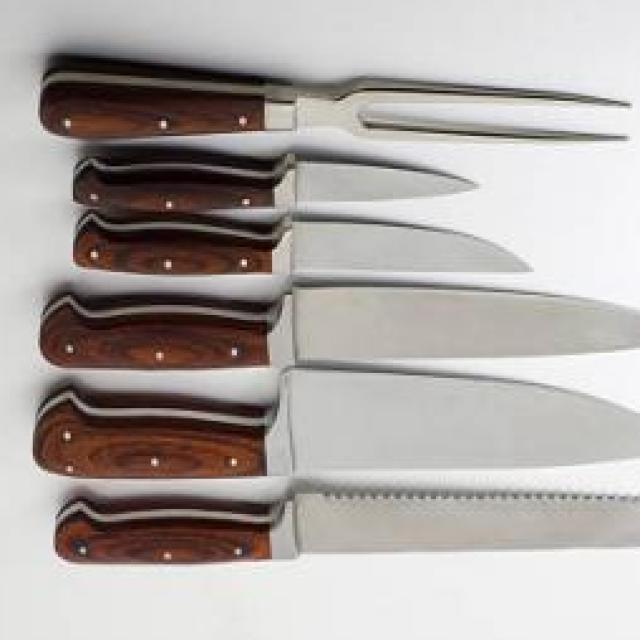knife: (30, 361, 640, 486), (15, 277, 640, 376), (53, 481, 640, 572), (25, 150, 483, 214), (58, 221, 543, 272)
